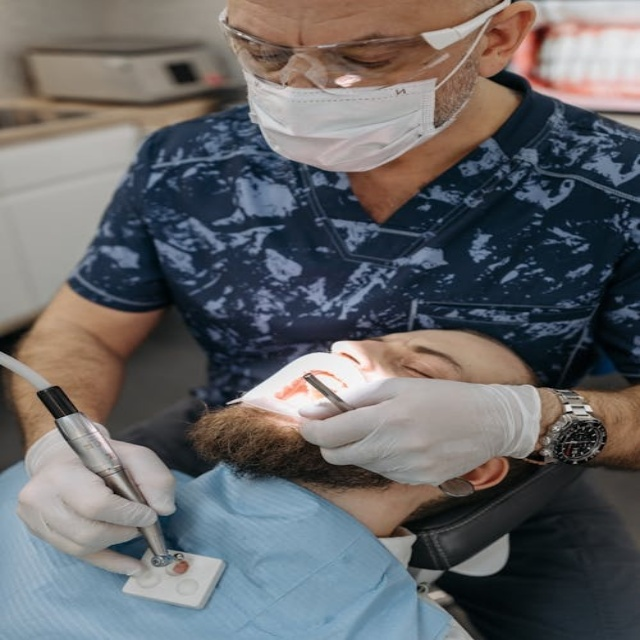Gafas: (219, 1, 510, 90)
Guantes: (298, 378, 548, 489), (16, 423, 176, 576)
Mascara: (234, 15, 494, 171)
Sin_gafas: (356, 332, 485, 382)
